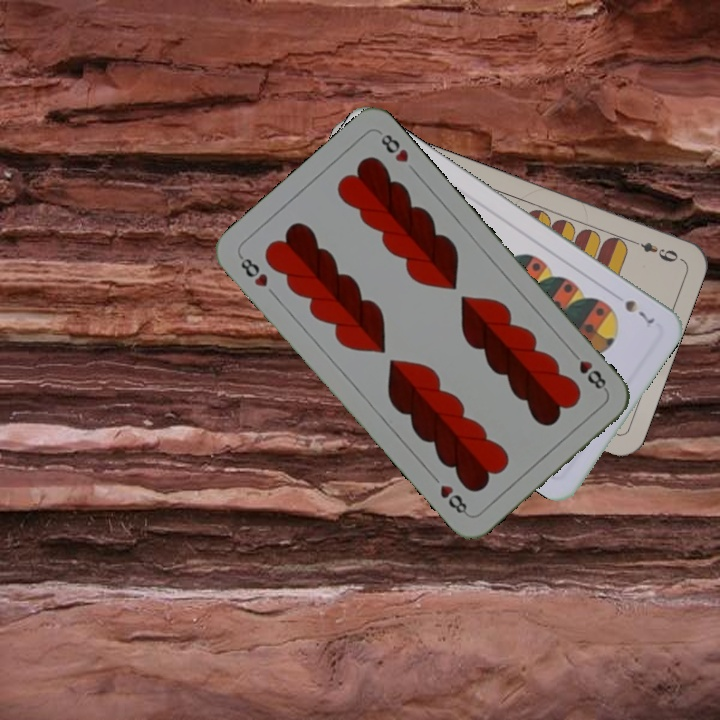E9: (627, 235, 684, 265)
H8: (566, 346, 610, 394), (235, 251, 271, 290)
S7: (620, 295, 658, 327)
